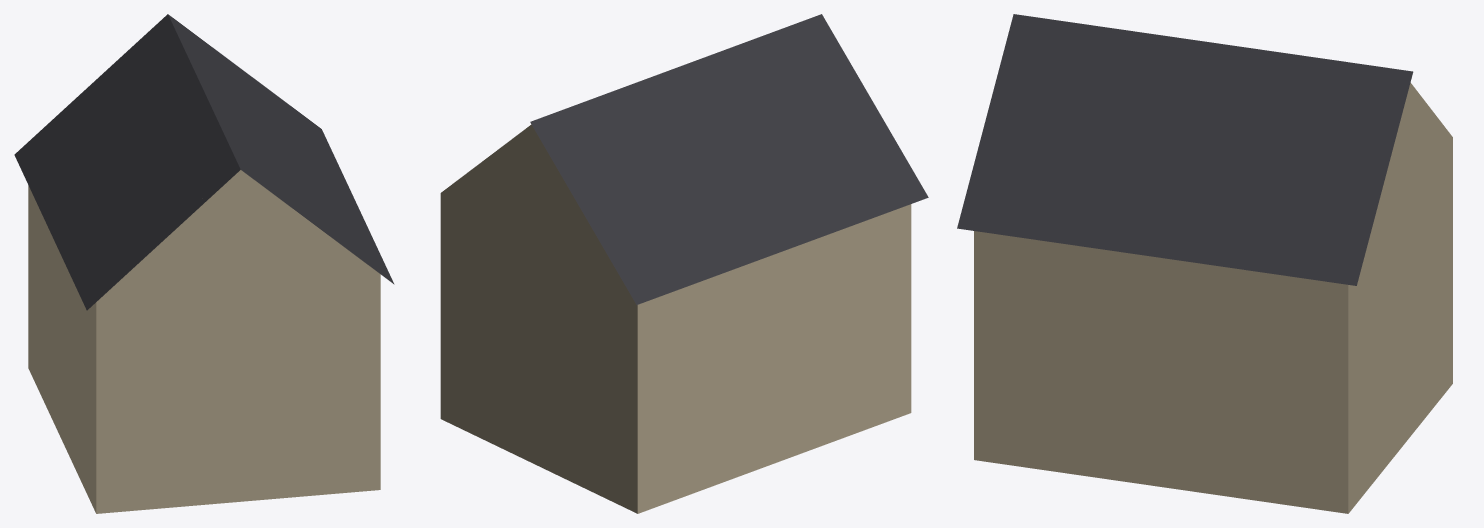
3 renders of one model, left to right at view 1: azimuth 30°, elevation 25°; view 2: azimuth 150°, elevation 25°; view 3: azimuth 270°, elevation 25°, orthographic. The views are drawn at different scales.
Visible parts, largest first — view 1: buildings; view 2: buildings; view 3: buildings.
Part boxes in pixels (x1=…): buildings: x1=14, y1=14, x2=394, y2=513; buildings: x1=440, y1=14, x2=928, y2=513; buildings: x1=957, y1=14, x2=1452, y2=513.
Bounding box in the file's own units: 10.57 × 9.4 × 11.53.
